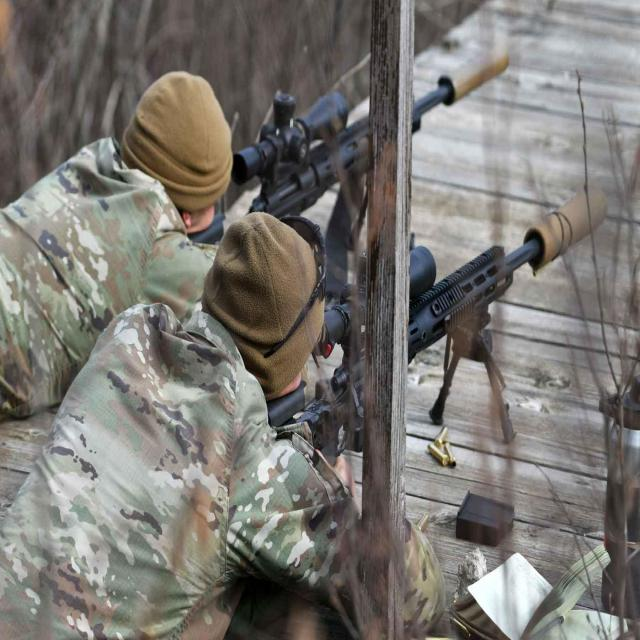weapon: (262, 179, 606, 481), (216, 43, 515, 253)
